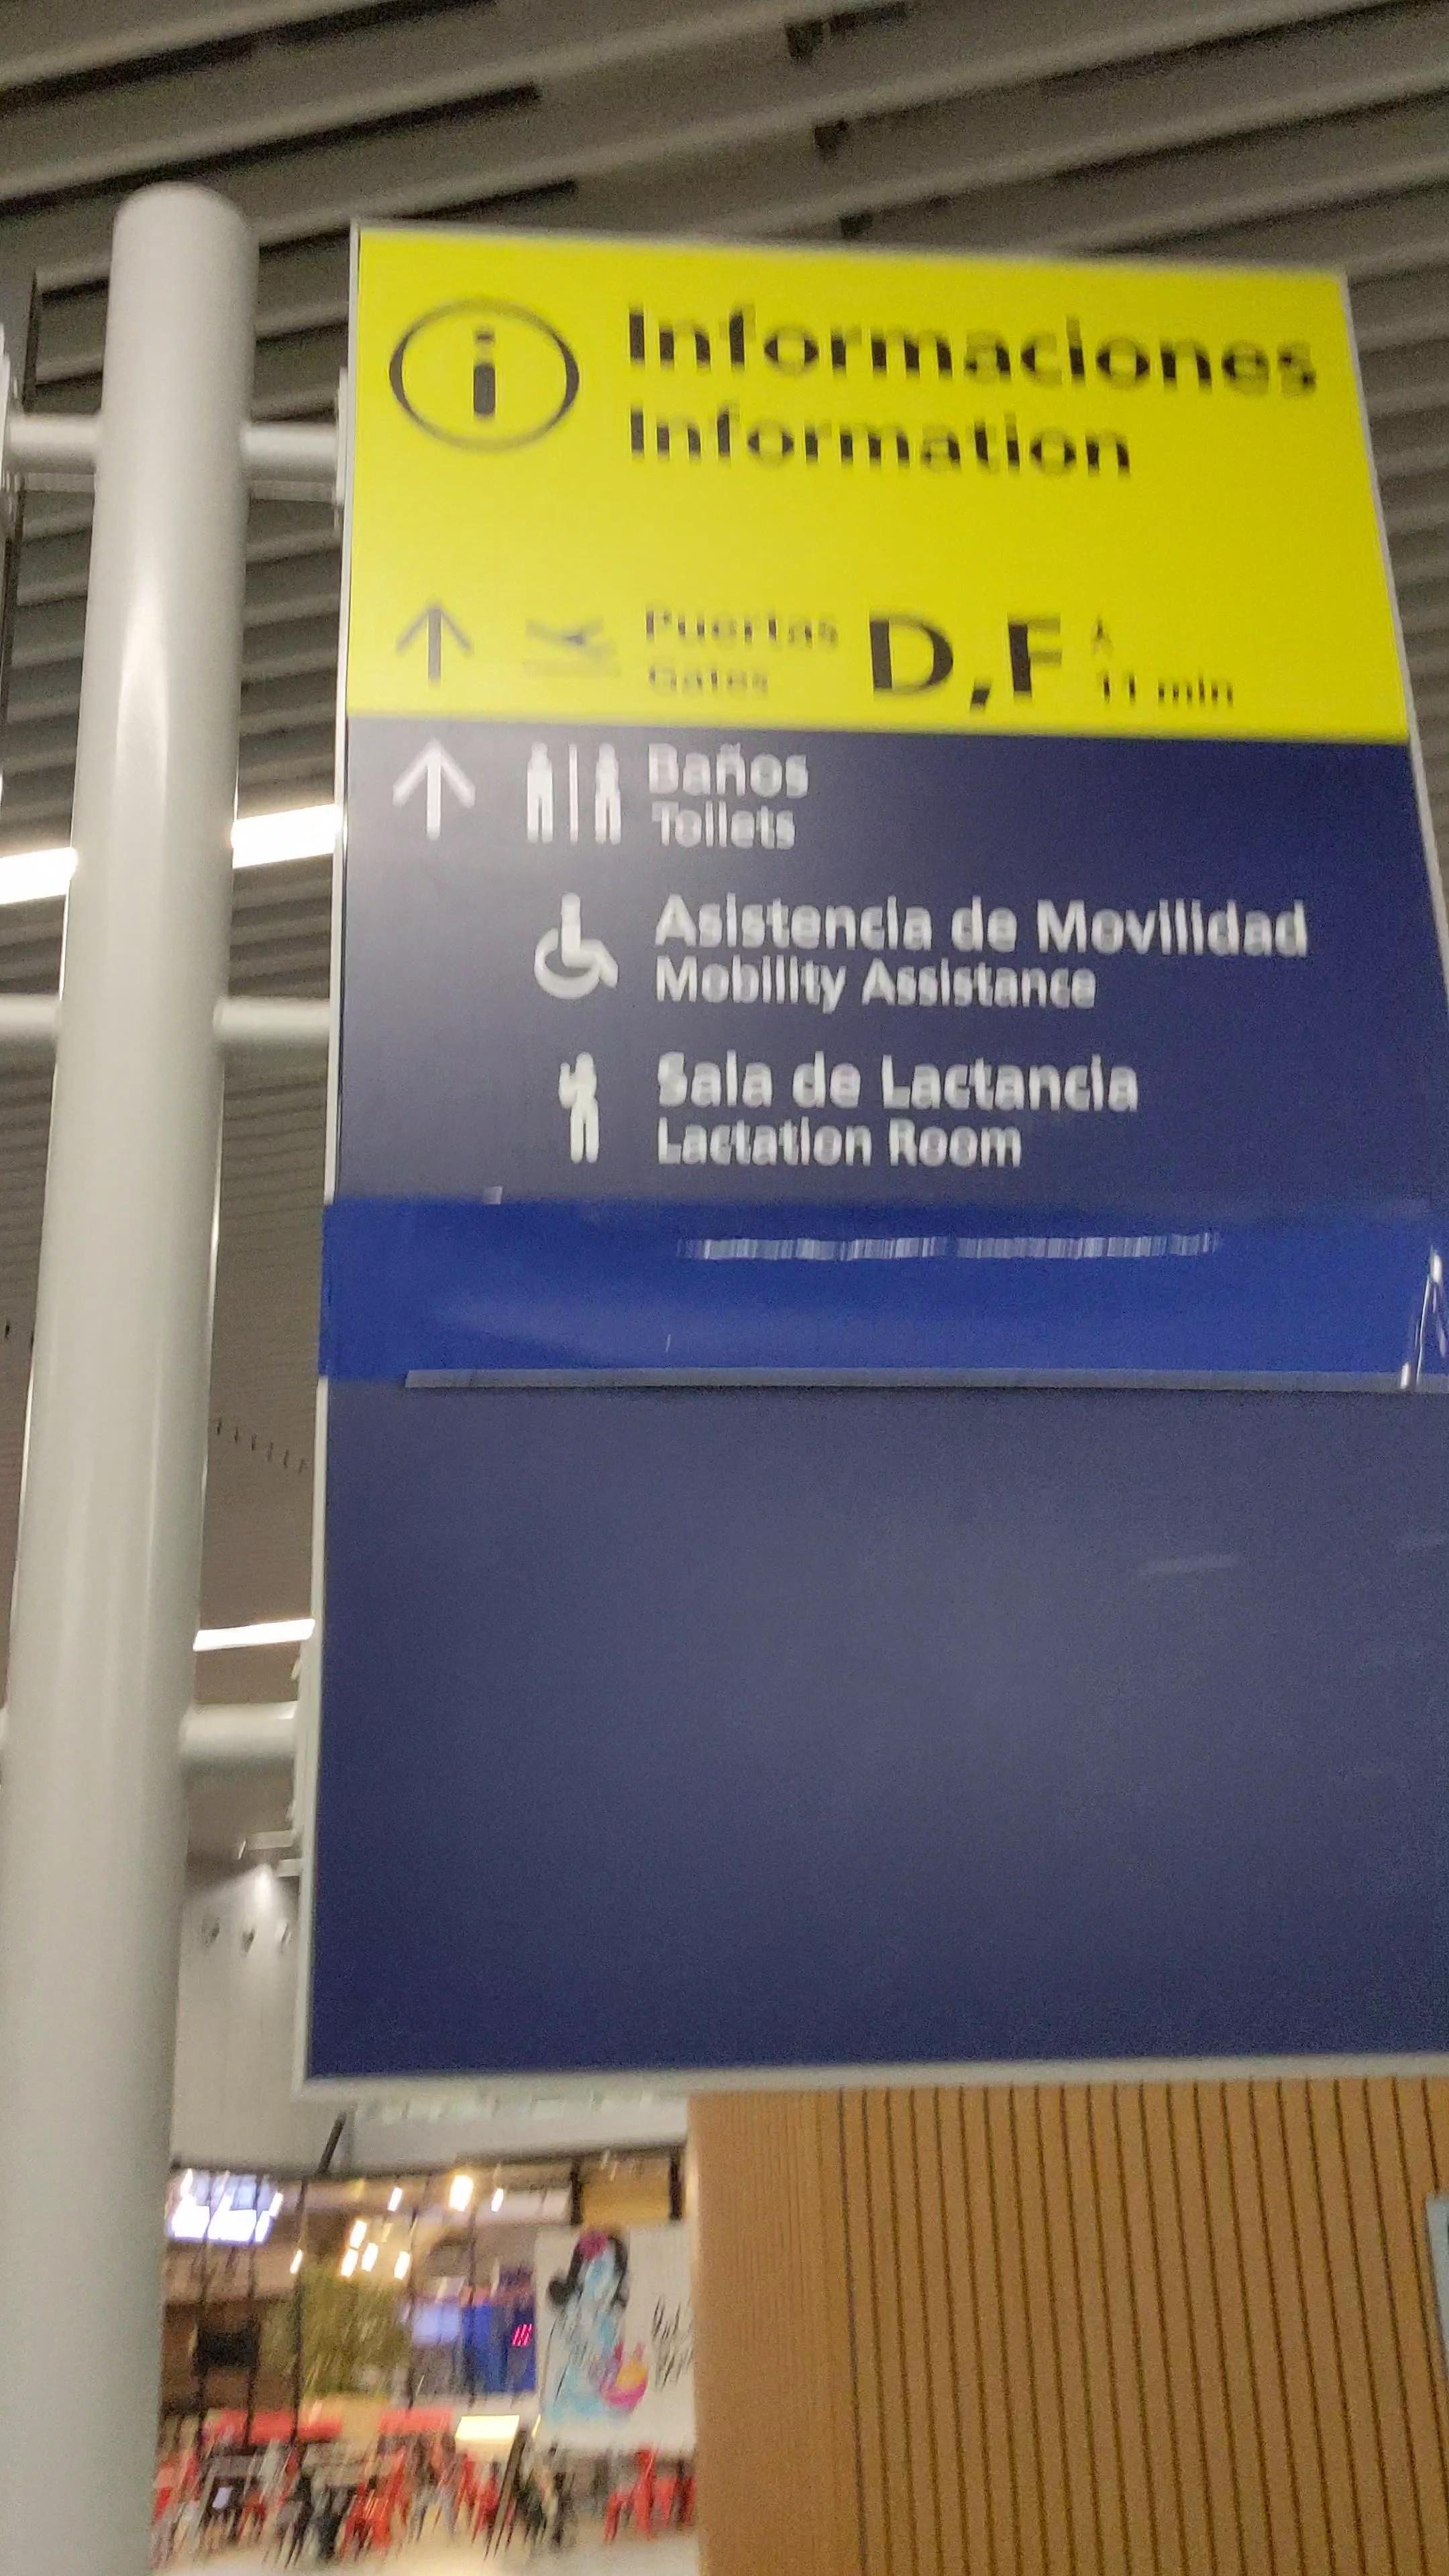airplane symbol: (518, 612, 623, 665)
bathrooms: (520, 738, 628, 853)
handicapped symbol: (534, 888, 621, 1005)
thin up arrow: (387, 736, 479, 846), (391, 593, 479, 692)
